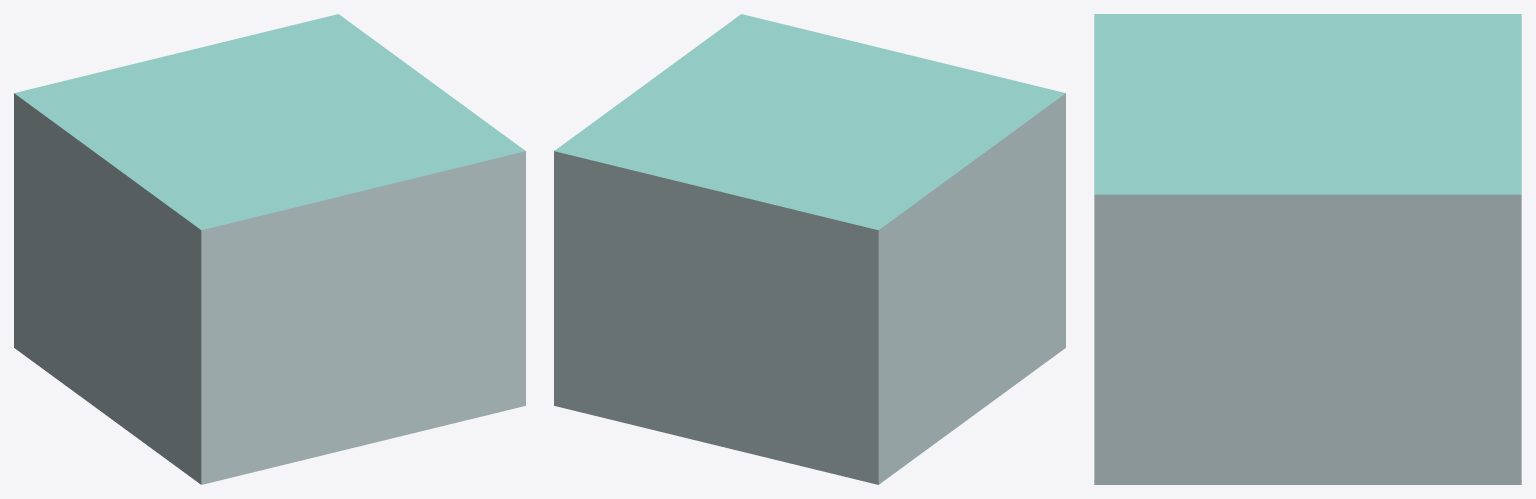
The model's file is nature-kit-classic--cliffgrey-blockhalf.glb.
3 renders of one model, left to right at view 1: azimuth 30°, elevation 25°; view 2: azimuth 150°, elevation 25°; view 3: azimuth 270°, elevation 25°, orthographic. The views are drawn at different scales.
Parts seen in each view (by area): view 1: cliffGrey_blockHalf; view 2: cliffGrey_blockHalf; view 3: cliffGrey_blockHalf.
Part boxes in pixels (x1,y1,x2,y2): cliffGrey_blockHalf: (14,14,525,484); cliffGrey_blockHalf: (554,14,1065,484); cliffGrey_blockHalf: (1094,14,1521,484).
Bounding box in the file's own units: 1 × 0.75 × 1.
